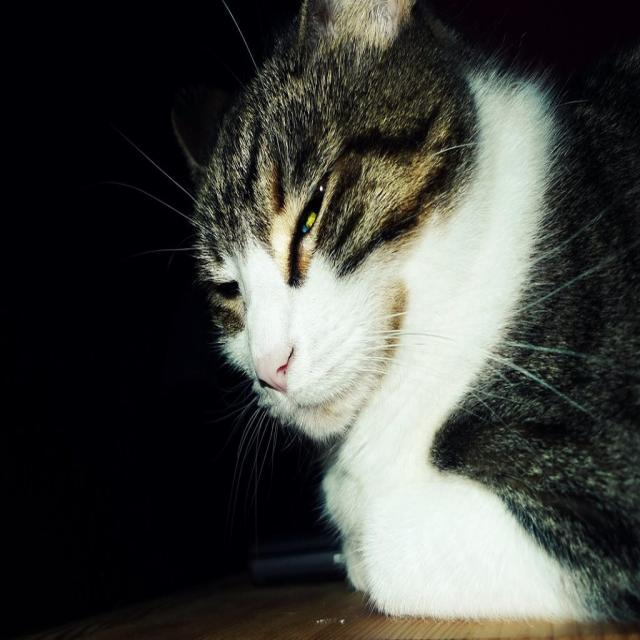Cat: (113, 0, 638, 619)
